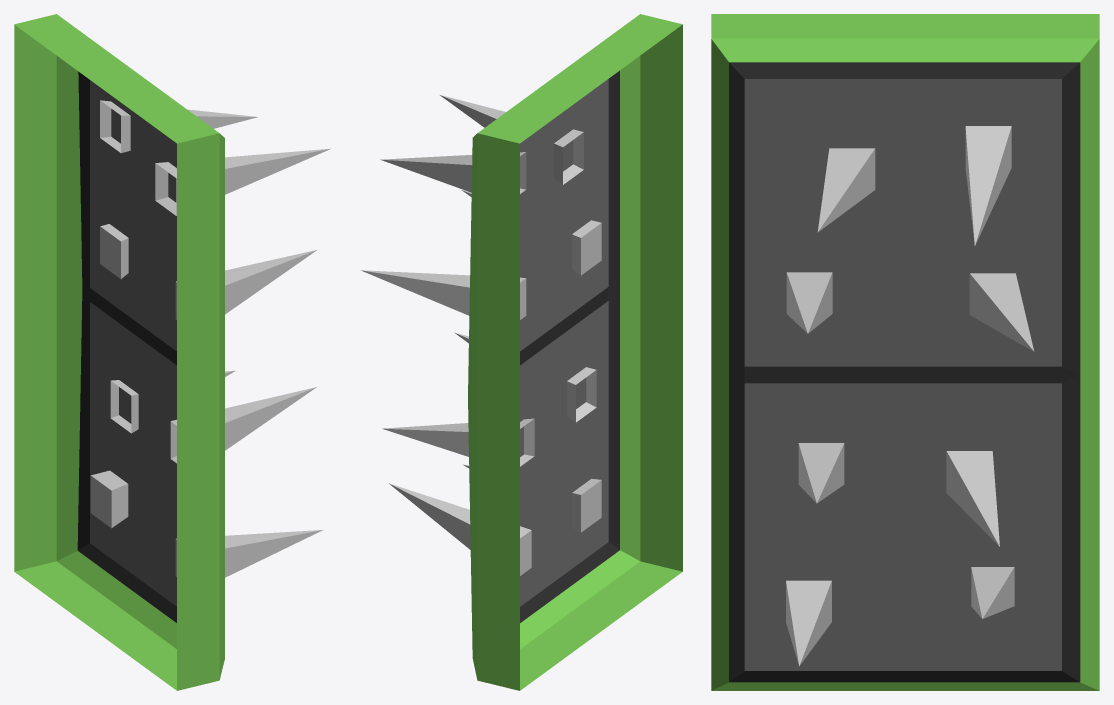
File: Spikewall03.fbx
3 views of the same model, side by side, from view 1: azimuth 30°, elevation 25°; view 2: azimuth 150°, elevation 25°; view 3: azimuth 270°, elevation 25° (orthographic). The views are drawn at different scales.
Visible parts, largest first — view 1: Plane; view 2: Plane; view 3: Plane.
Part boxes in pixels (x1,y1,x2,y2): Plane: (14,14,330,690); Plane: (361,14,682,690); Plane: (711,14,1099,690).
Bounding box in the file's own units: 0.7622 × 2 × 1.08.
